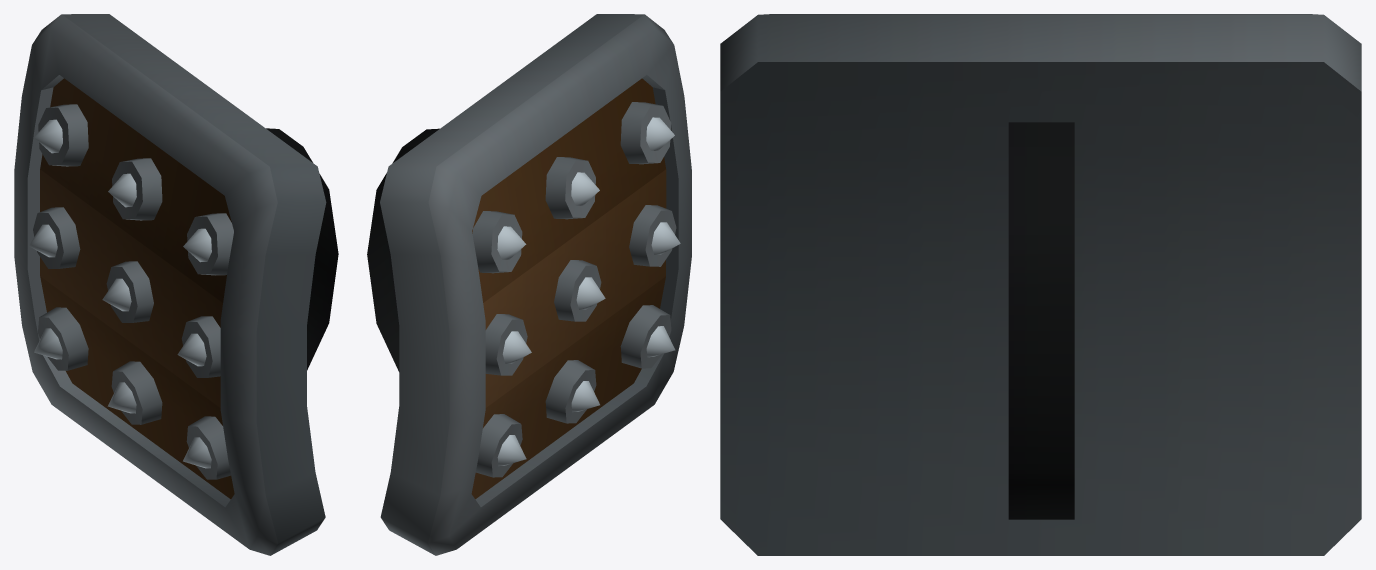
Rendered from Shield 05.FBX.
The picture shows the model from 3 angles, left to right: view 1: azimuth 30°, elevation 25°; view 2: azimuth 150°, elevation 25°; view 3: azimuth 270°, elevation 25°; orthographic projection. The views are drawn at different scales.
Visible parts, largest first — view 1: Shield 05; view 2: Shield 05; view 3: Shield 05.
Part boxes in pixels (x1=…): Shield 05: x1=14, y1=14, x2=338, y2=555; Shield 05: x1=367, y1=14, x2=691, y2=555; Shield 05: x1=720, y1=14, x2=1361, y2=555.
Size of the model in its own units: 67.13 by 111 by 122.
